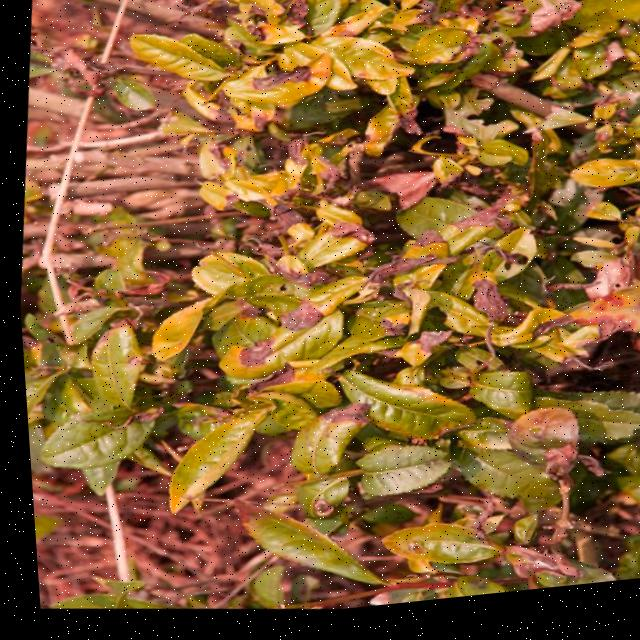Tea cloud leaf blight: (347, 248, 434, 329), (500, 413, 570, 480), (247, 183, 313, 248), (346, 168, 435, 210), (234, 54, 304, 105), (198, 119, 259, 177), (258, 248, 323, 294), (313, 394, 371, 445), (461, 284, 512, 336), (318, 216, 365, 261), (222, 290, 271, 332), (214, 338, 268, 375), (263, 307, 317, 344)
